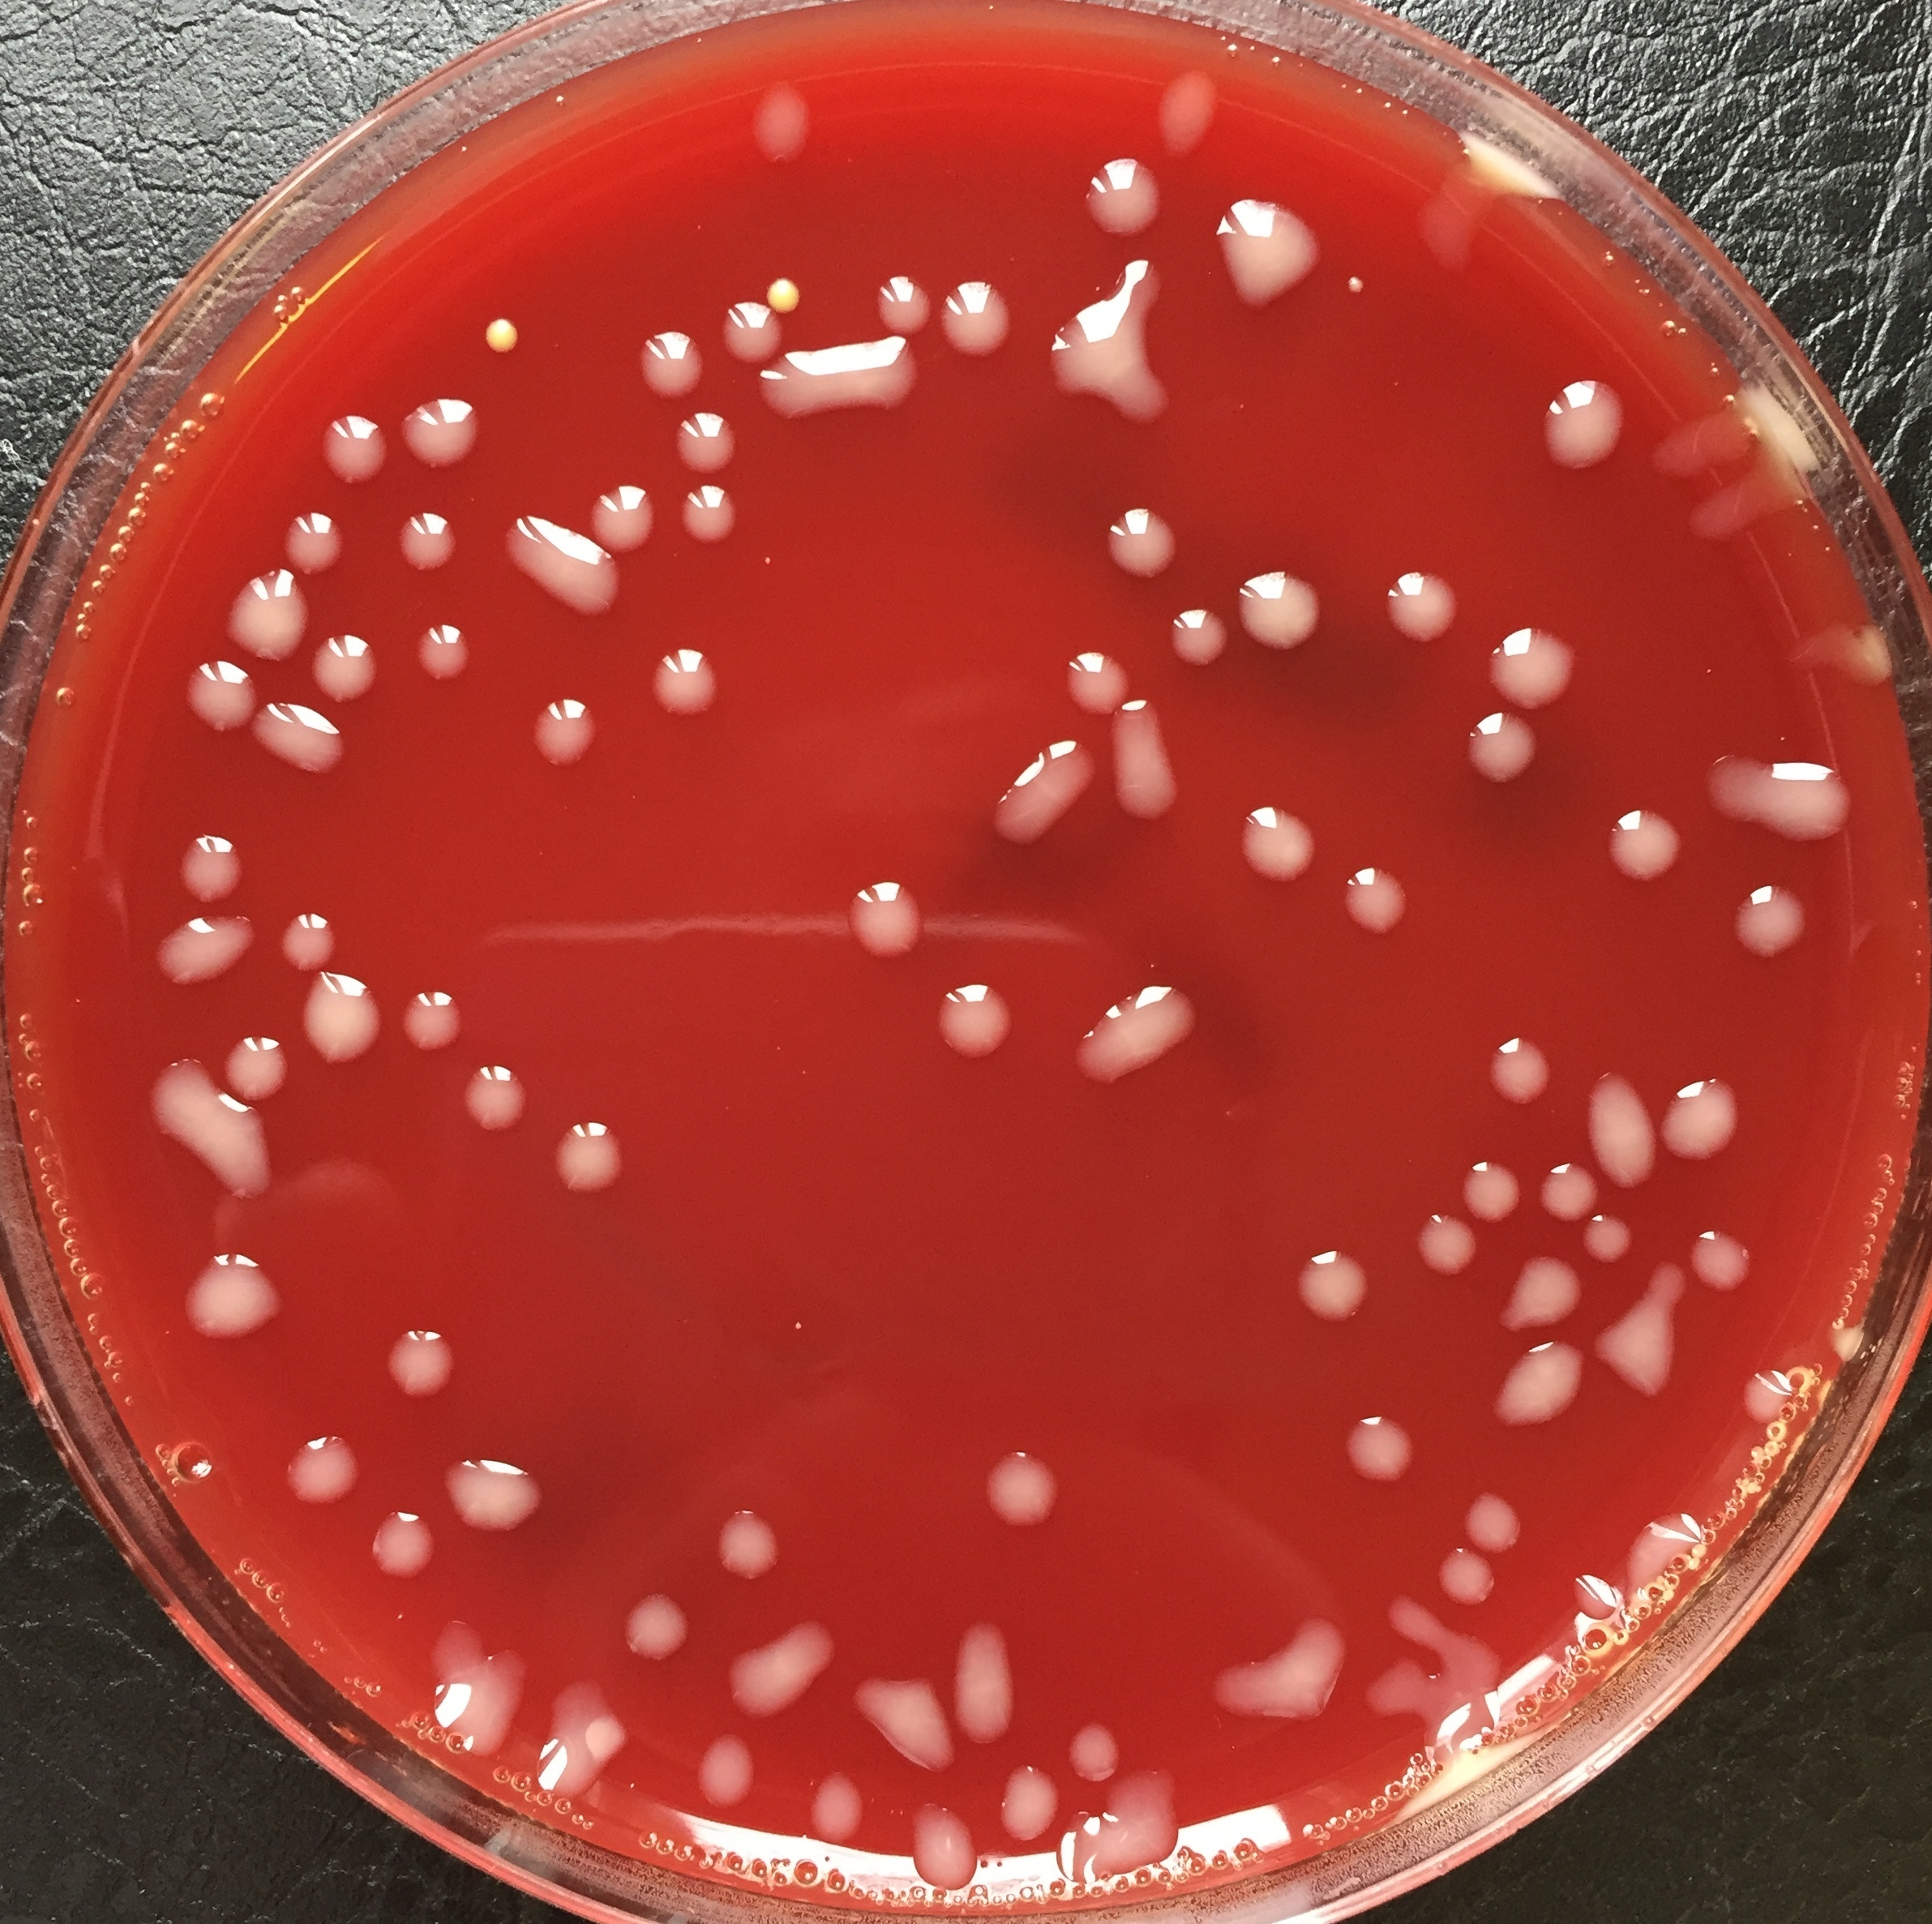sp19: (1044, 245, 1175, 428), (1212, 1609, 1353, 1751), (129, 1055, 275, 1191), (1069, 967, 1213, 1103), (419, 1609, 534, 1762), (969, 724, 1097, 849), (169, 1232, 294, 1357), (719, 1605, 838, 1730), (1203, 183, 1323, 307), (1597, 1254, 1684, 1424), (1069, 1765, 1184, 1883), (139, 900, 266, 1004), (1529, 354, 1622, 490), (498, 511, 623, 610), (1108, 703, 1192, 844), (430, 1450, 562, 1540), (1432, 106, 1557, 197), (849, 1670, 949, 1783), (548, 1690, 629, 1829), (740, 74, 835, 190), (1735, 358, 1823, 483), (977, 1431, 1081, 1536), (1722, 876, 1830, 978), (1798, 620, 1906, 715), (1481, 1336, 1587, 1431), (400, 389, 509, 481), (213, 560, 313, 659), (544, 1101, 639, 1205), (949, 1614, 1025, 1744), (1388, 1598, 1502, 1683), (1587, 1061, 1661, 1191), (1078, 150, 1173, 250), (1472, 624, 1589, 705), (1766, 749, 1851, 860), (254, 696, 350, 789), (1236, 793, 1317, 904), (373, 1323, 477, 1410), (1407, 174, 1478, 300), (280, 1418, 365, 1522), (1238, 559, 1333, 650), (1597, 803, 1698, 890), (838, 331, 930, 425), (1663, 1064, 1742, 1172), (1486, 1253, 1585, 1336), (518, 685, 608, 775), (933, 270, 1018, 365), (313, 400, 398, 495), (895, 1794, 979, 1889), (1289, 1244, 1377, 1334), (764, 335, 844, 433), (835, 874, 935, 951), (391, 500, 479, 588), (1456, 708, 1546, 795), (664, 474, 759, 555), (1627, 1499, 1708, 1595), (1333, 1402, 1421, 1489), (305, 960, 375, 1068), (648, 631, 724, 729), (1092, 499, 1178, 585), (305, 629, 391, 715), (1655, 391, 1740, 479), (928, 978, 1011, 1068), (609, 1589, 703, 1669), (1338, 856, 1421, 941), (984, 1758, 1067, 1843), (685, 1725, 759, 1818), (1687, 1212, 1761, 1306), (1155, 65, 1224, 164), (164, 814, 247, 895), (410, 611, 479, 703), (1444, 1478, 1529, 1552), (269, 509, 370, 571), (451, 1055, 528, 1135), (217, 1029, 301, 1099), (171, 655, 250, 729), (365, 1506, 439, 1586), (1166, 604, 1238, 685), (634, 321, 704, 403), (1486, 1025, 1557, 1108), (1698, 483, 1800, 539), (659, 407, 743, 474), (400, 978, 461, 1069), (1456, 1149, 1534, 1221), (713, 1499, 784, 1579), (800, 1765, 863, 1854), (1411, 1205, 1481, 1284), (585, 470, 652, 550), (1381, 564, 1448, 641), (1432, 1543, 1499, 1619), (1733, 1358, 1809, 1425), (1058, 645, 1141, 705), (1543, 1151, 1603, 1233), (1578, 1205, 1645, 1279), (1701, 744, 1766, 819), (1557, 1550, 1617, 1630), (863, 270, 933, 335), (1058, 1706, 1124, 1776), (1361, 1663, 1435, 1723), (277, 899, 338, 969), (719, 294, 780, 354)
